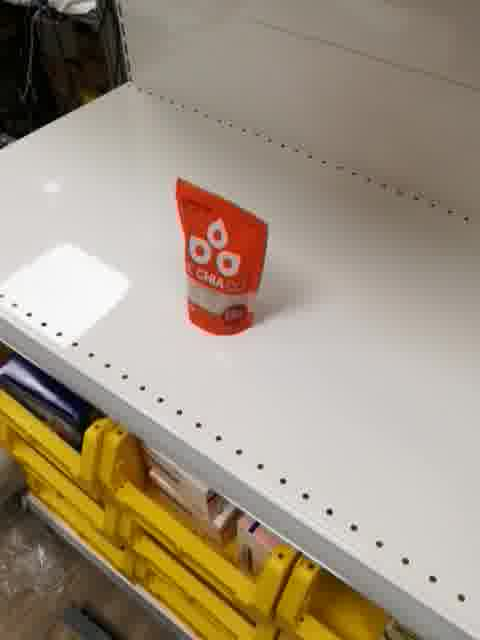whitechia: (172, 172, 269, 339)
